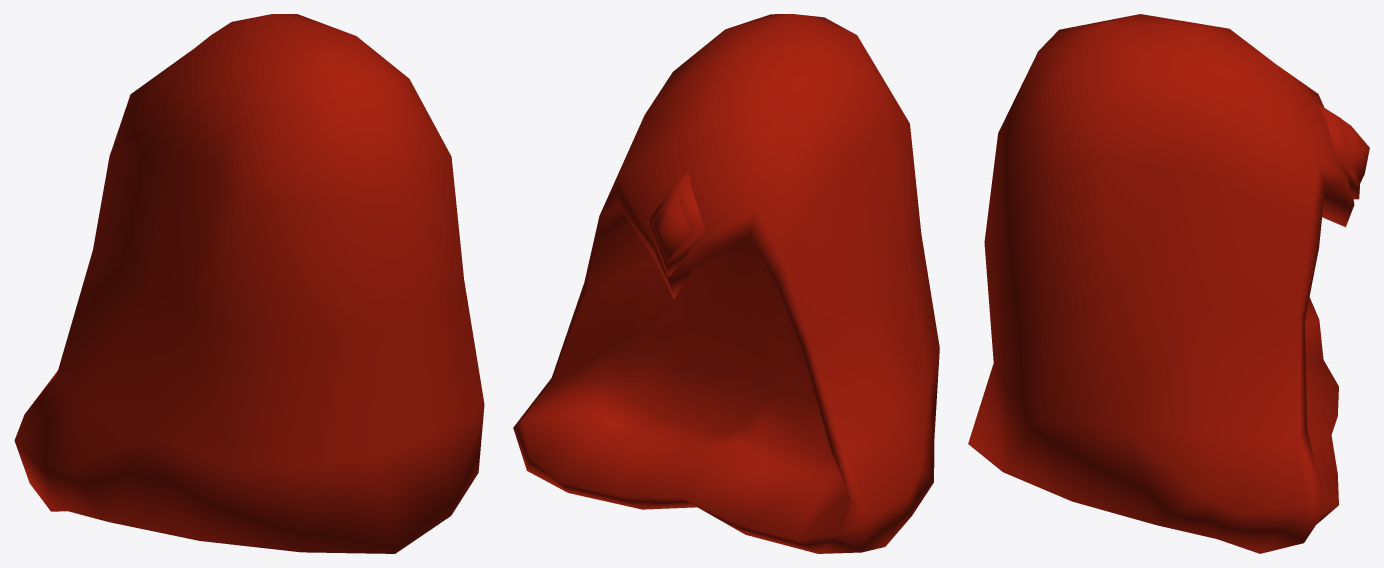
Rendered from head.obj.
3 renders of one model, left to right at view 1: azimuth 30°, elevation 25°; view 2: azimuth 150°, elevation 25°; view 3: azimuth 270°, elevation 25°, orthographic. The views are drawn at different scales.
Parts seen in each view (by area): view 1: LowPoly_Warlock_Plane.001; view 2: LowPoly_Warlock_Plane.001; view 3: LowPoly_Warlock_Plane.001.
Boxes of the visible parts, bbox=[...] form: LowPoly_Warlock_Plane.001: bbox=[14, 14, 484, 553]; LowPoly_Warlock_Plane.001: bbox=[513, 14, 939, 553]; LowPoly_Warlock_Plane.001: bbox=[968, 14, 1369, 553].
Bounding box in the file's own units: 0.4374 × 0.4943 × 0.4036.
